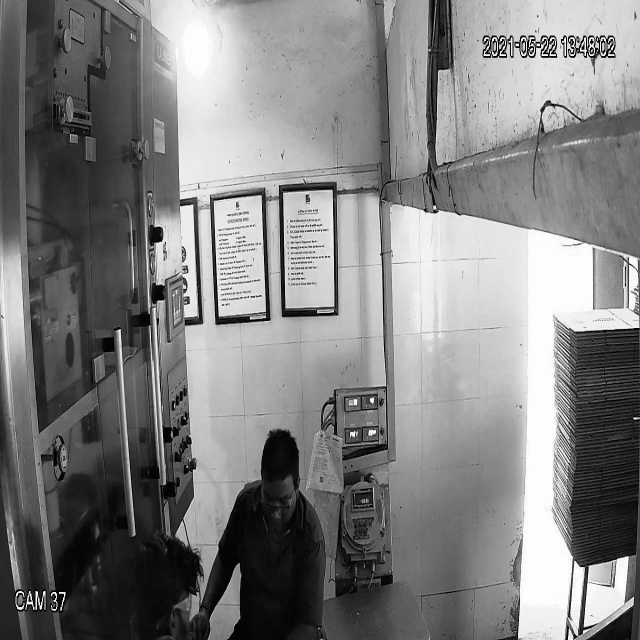Gafas: (257, 485, 296, 518)
